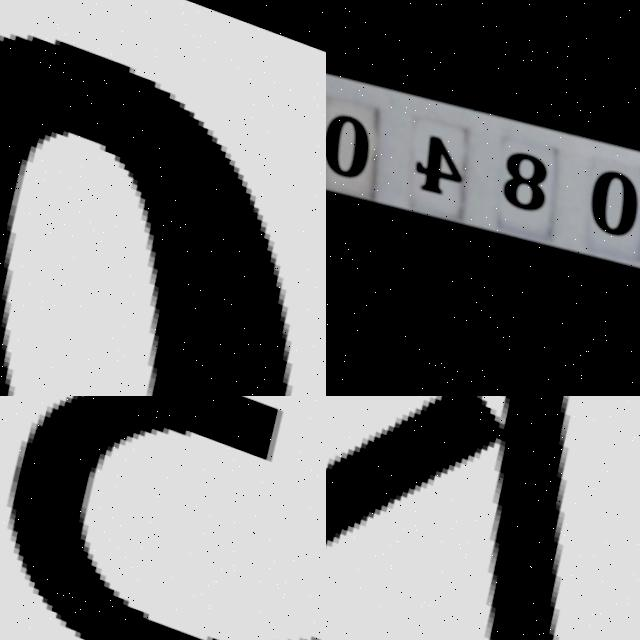0: (0, 0, 326, 396), (560, 139, 640, 256), (326, 91, 391, 197)
3: (0, 396, 326, 640)
4: (386, 105, 485, 218)
8: (477, 124, 569, 230)
K: (326, 396, 640, 640)
